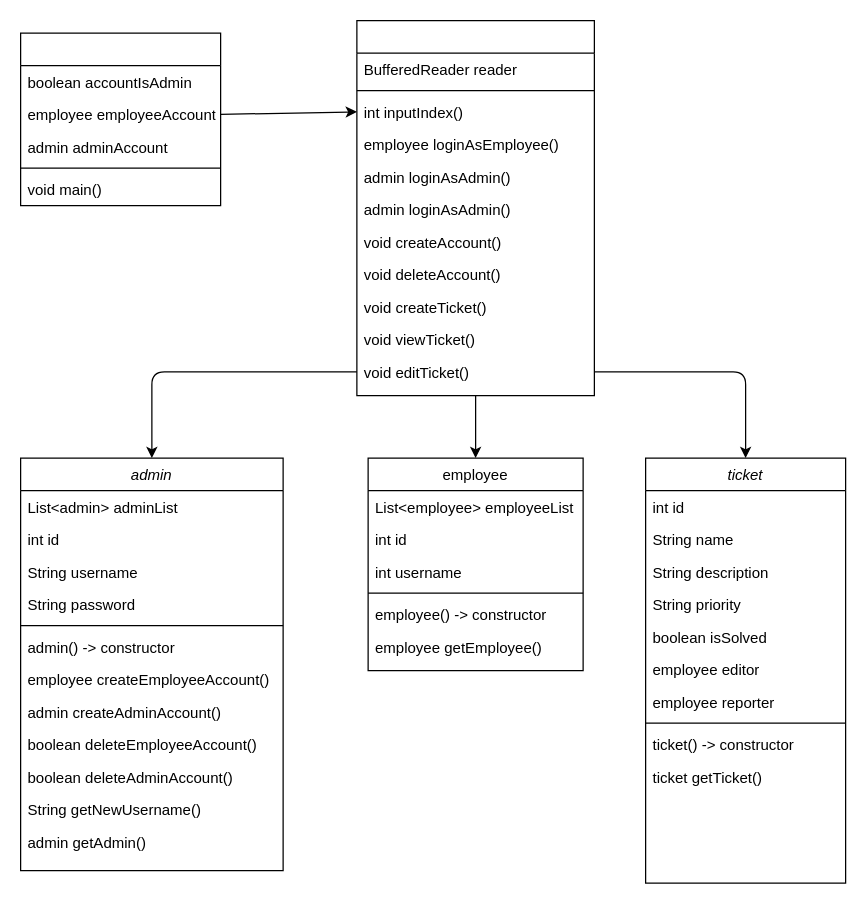
Image size: 866x904. Some labels were removed from this diagram. Each missing label, with the box of its shape:
gira: (19, 32, 221, 206)
navigation: (356, 19, 594, 396)
